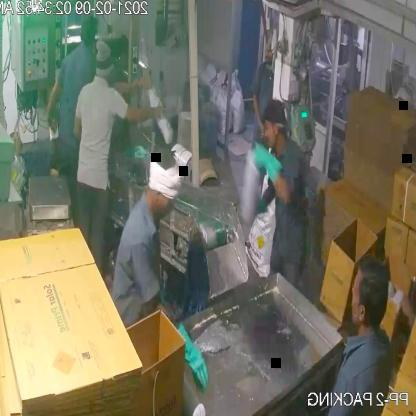glove: (244, 148, 288, 195)
no_glove: (95, 66, 160, 102), (118, 94, 166, 127)
